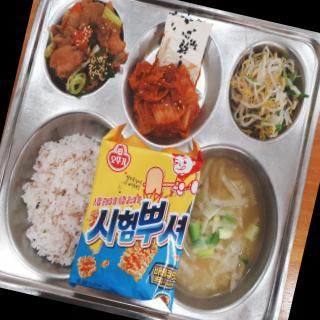Nasi: (9, 123, 102, 268)
